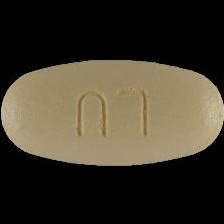50268-310: (0, 0, 224, 224)
